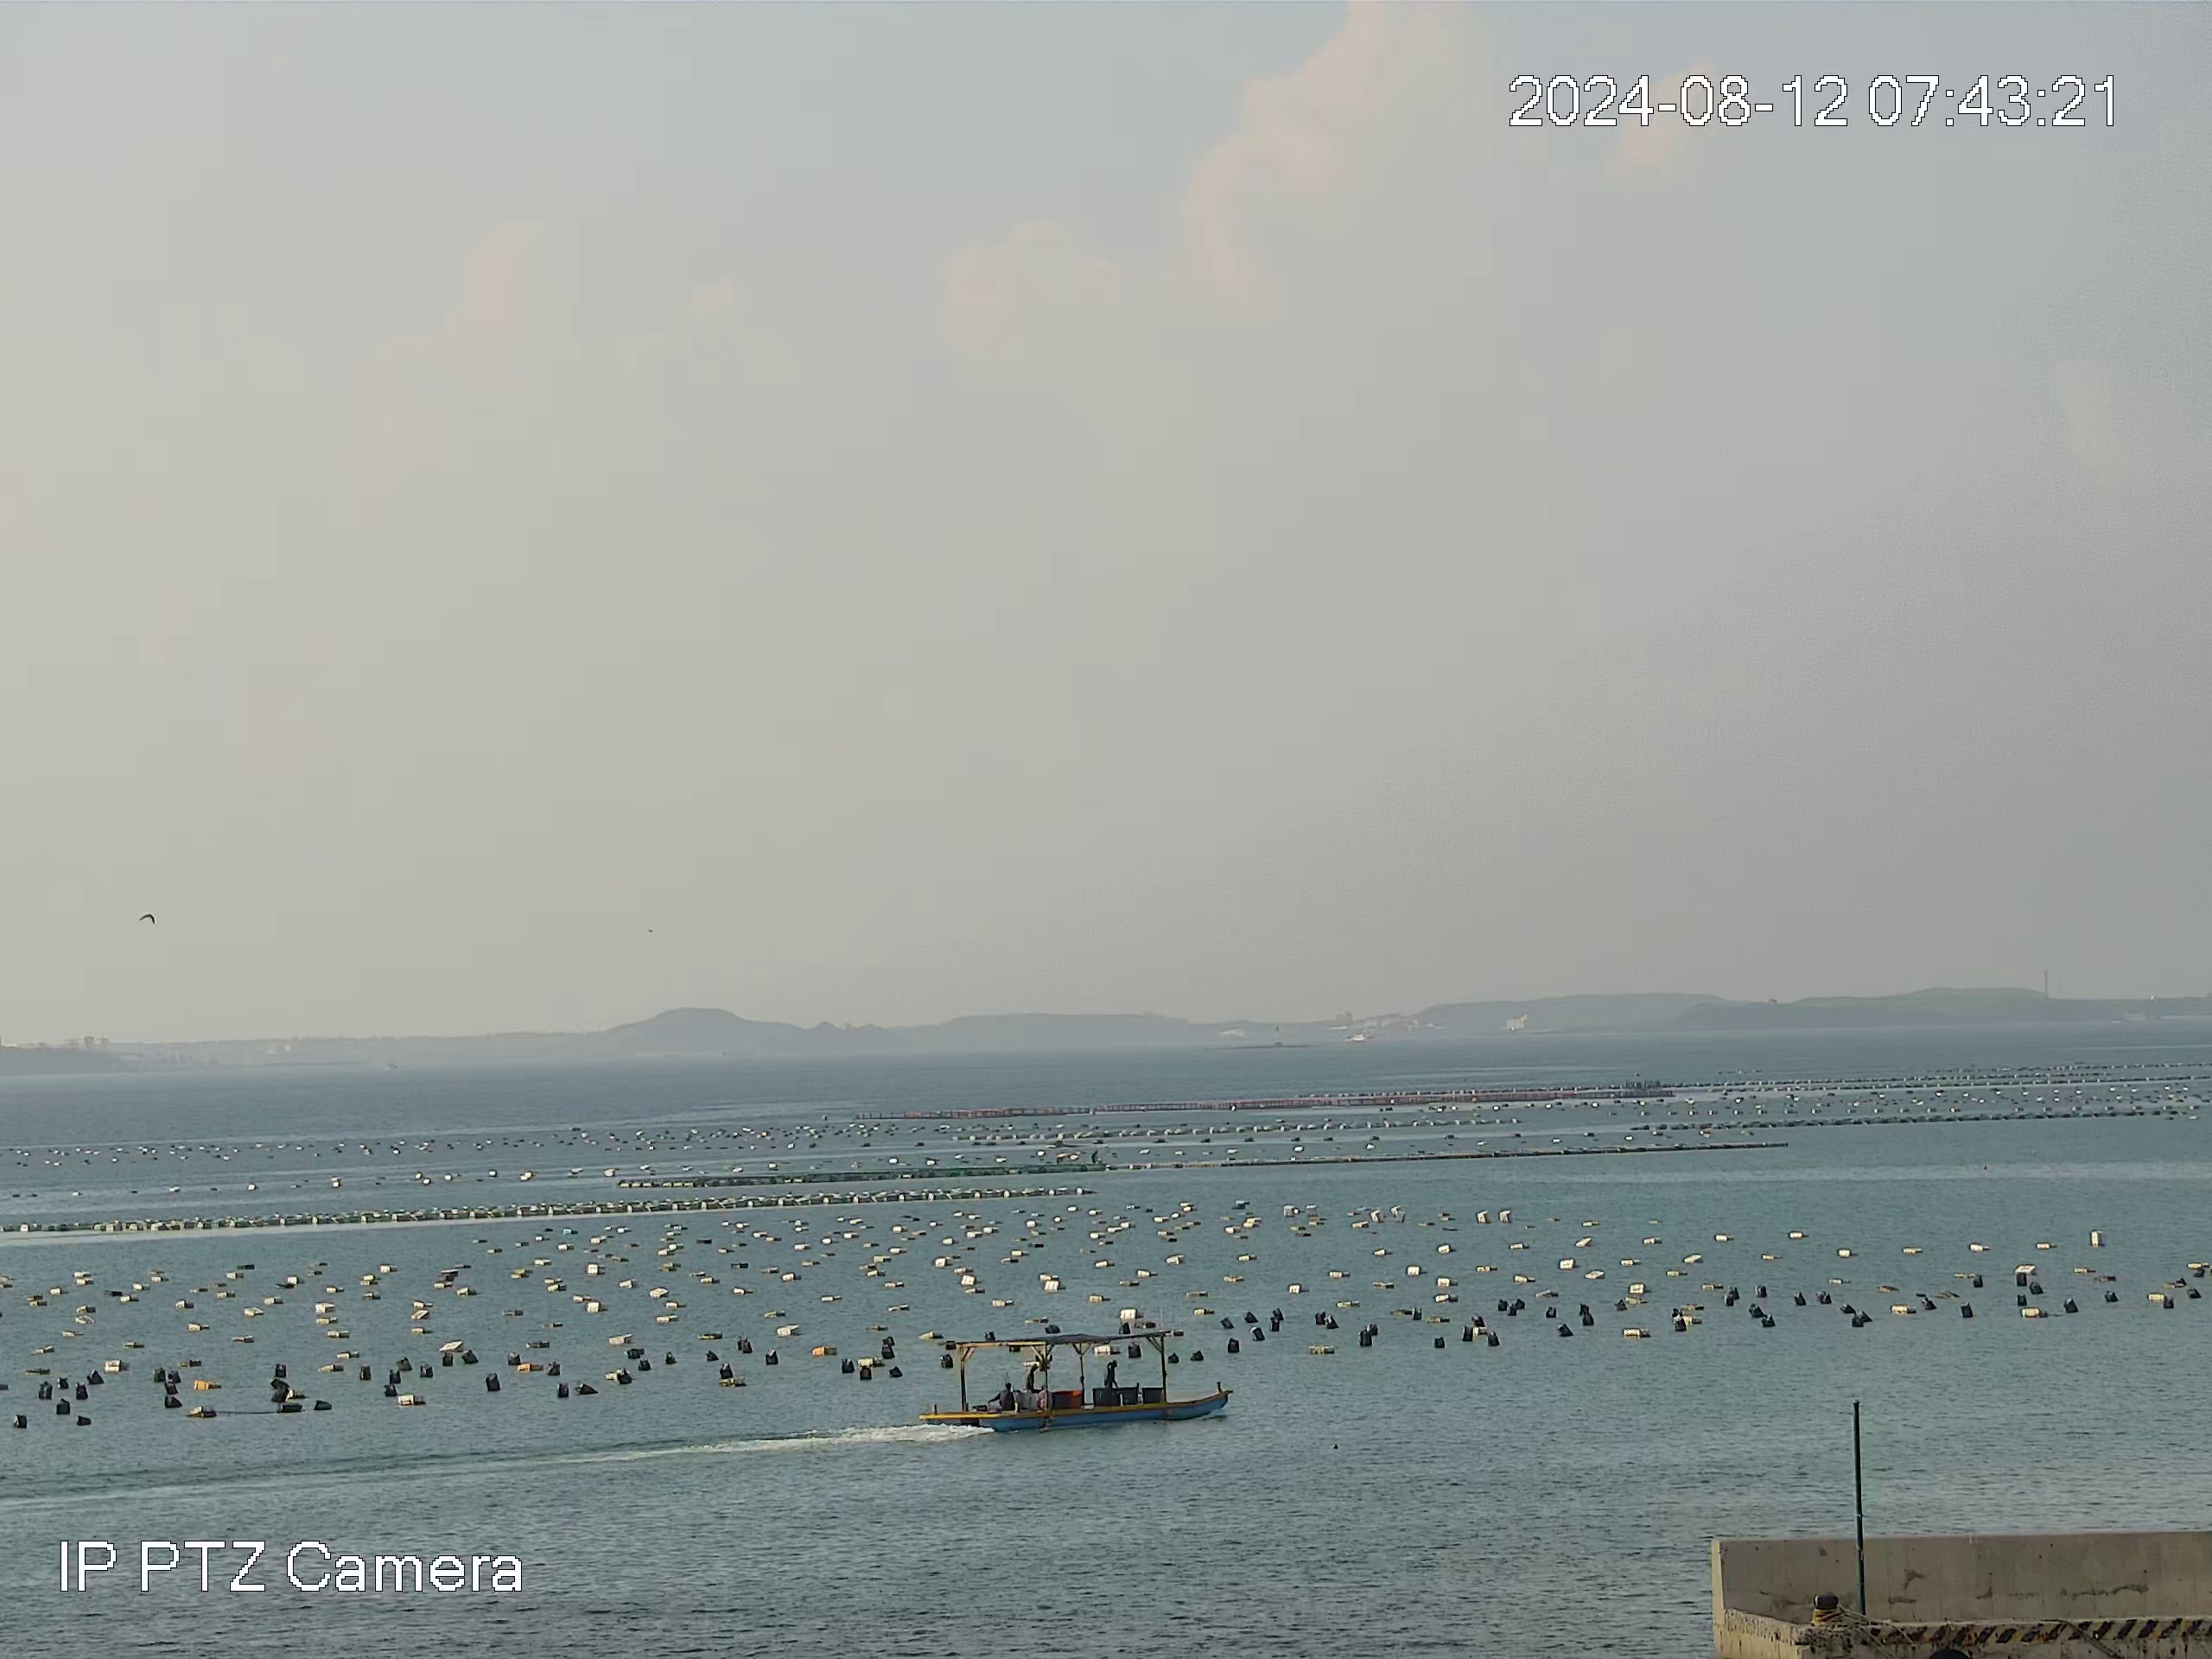boat: (911, 1331, 1252, 1438)
